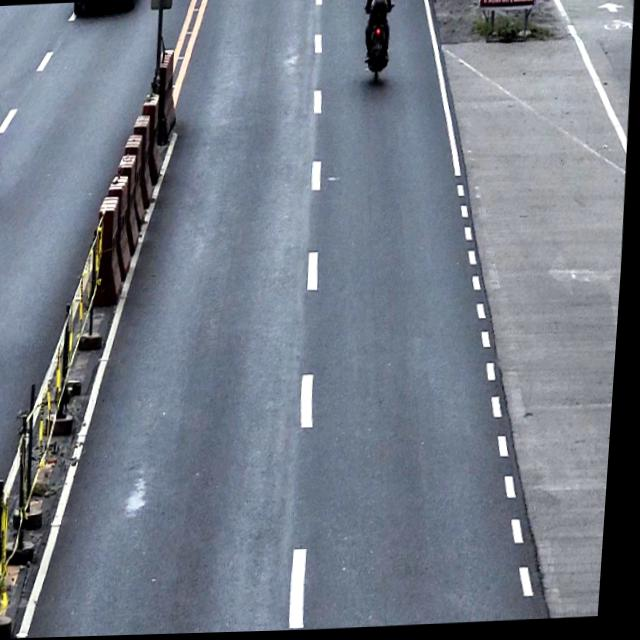Motorcycle: (357, 0, 398, 85)
